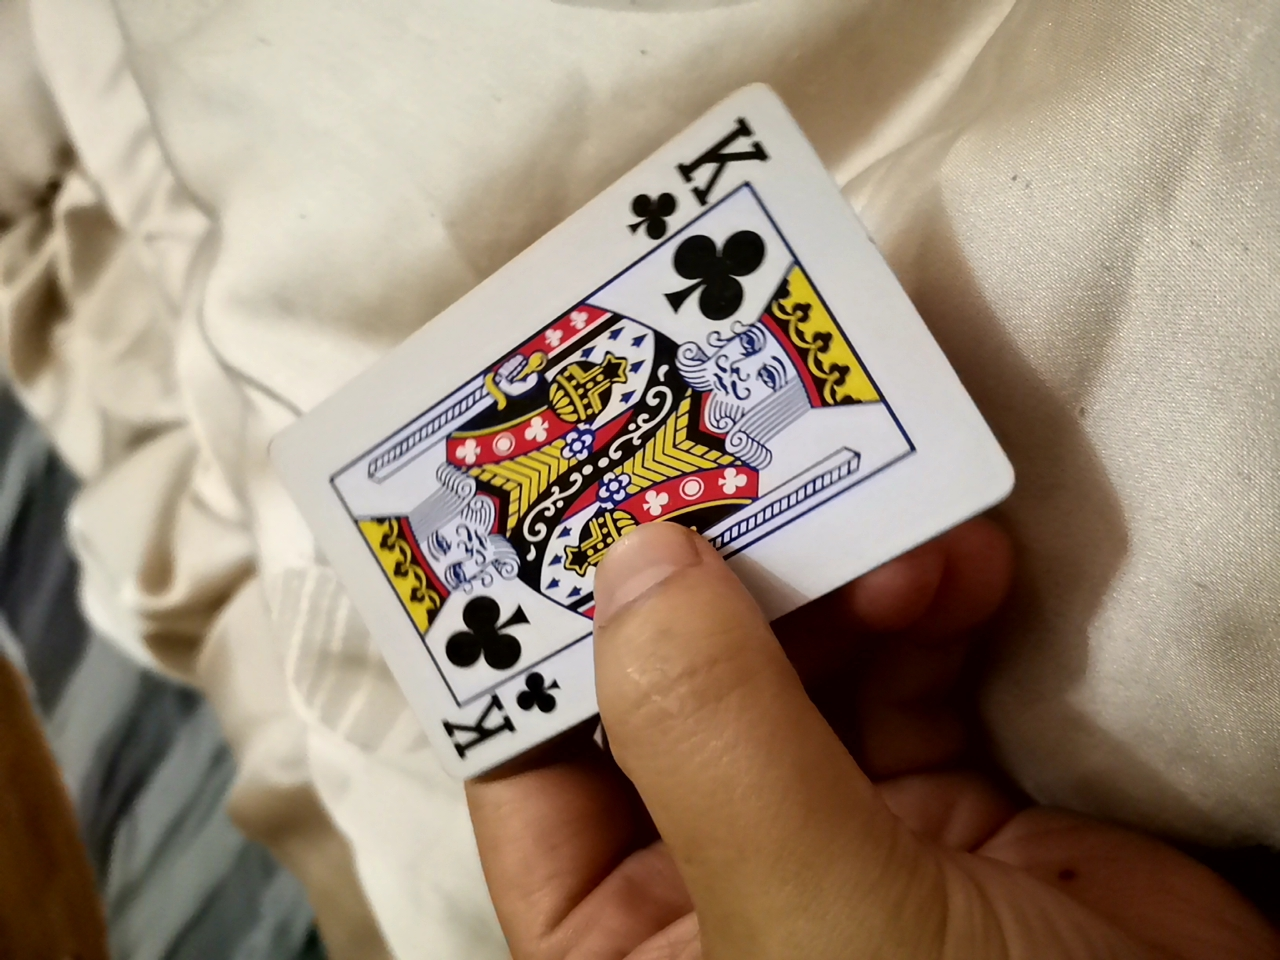mh k: (282, 71, 1009, 788)
